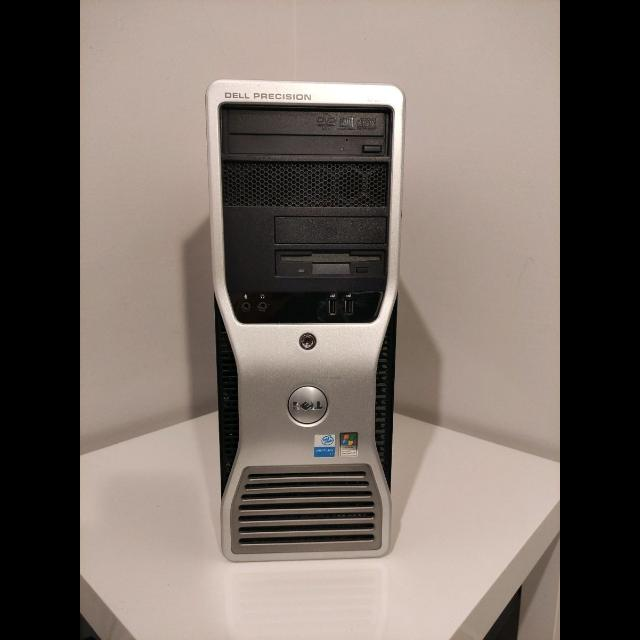Desktop-PC: (207, 80, 406, 562)
